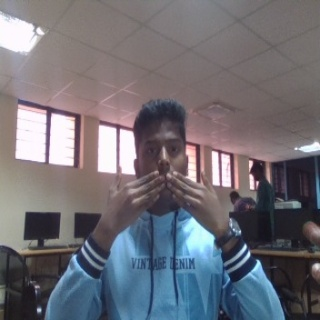Thank You: (99, 166, 234, 243)
